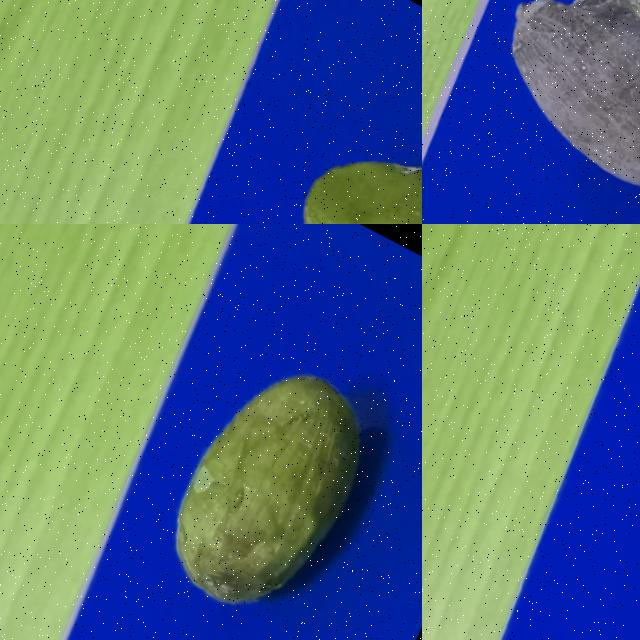Agglomerated_cocoabeans: (422, 0, 639, 223)
Fine_cocoabeans: (70, 260, 421, 639), (181, 19, 421, 223), (565, 277, 639, 639)
